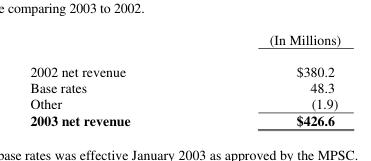table: (29, 29, 340, 129)
table column: (29, 29, 199, 129), (199, 29, 340, 129)
table column header: (29, 29, 340, 54)
table row: (29, 29, 340, 54), (29, 54, 340, 79), (29, 111, 340, 129), (29, 79, 340, 95), (29, 95, 340, 111)
